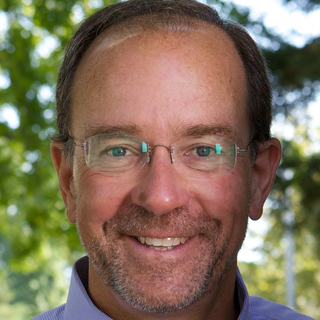eye: (95, 139, 143, 165), (180, 142, 227, 163)
